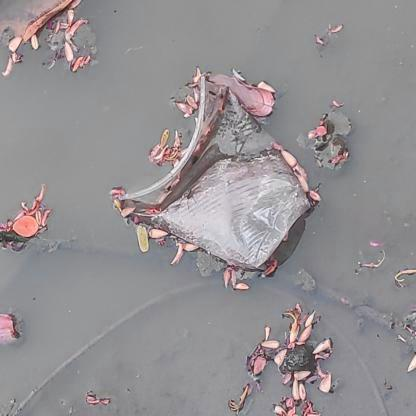Plastic: (120, 68, 318, 271)
